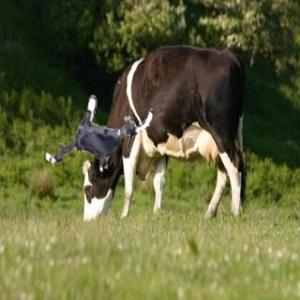drone: (43, 81, 157, 195)
